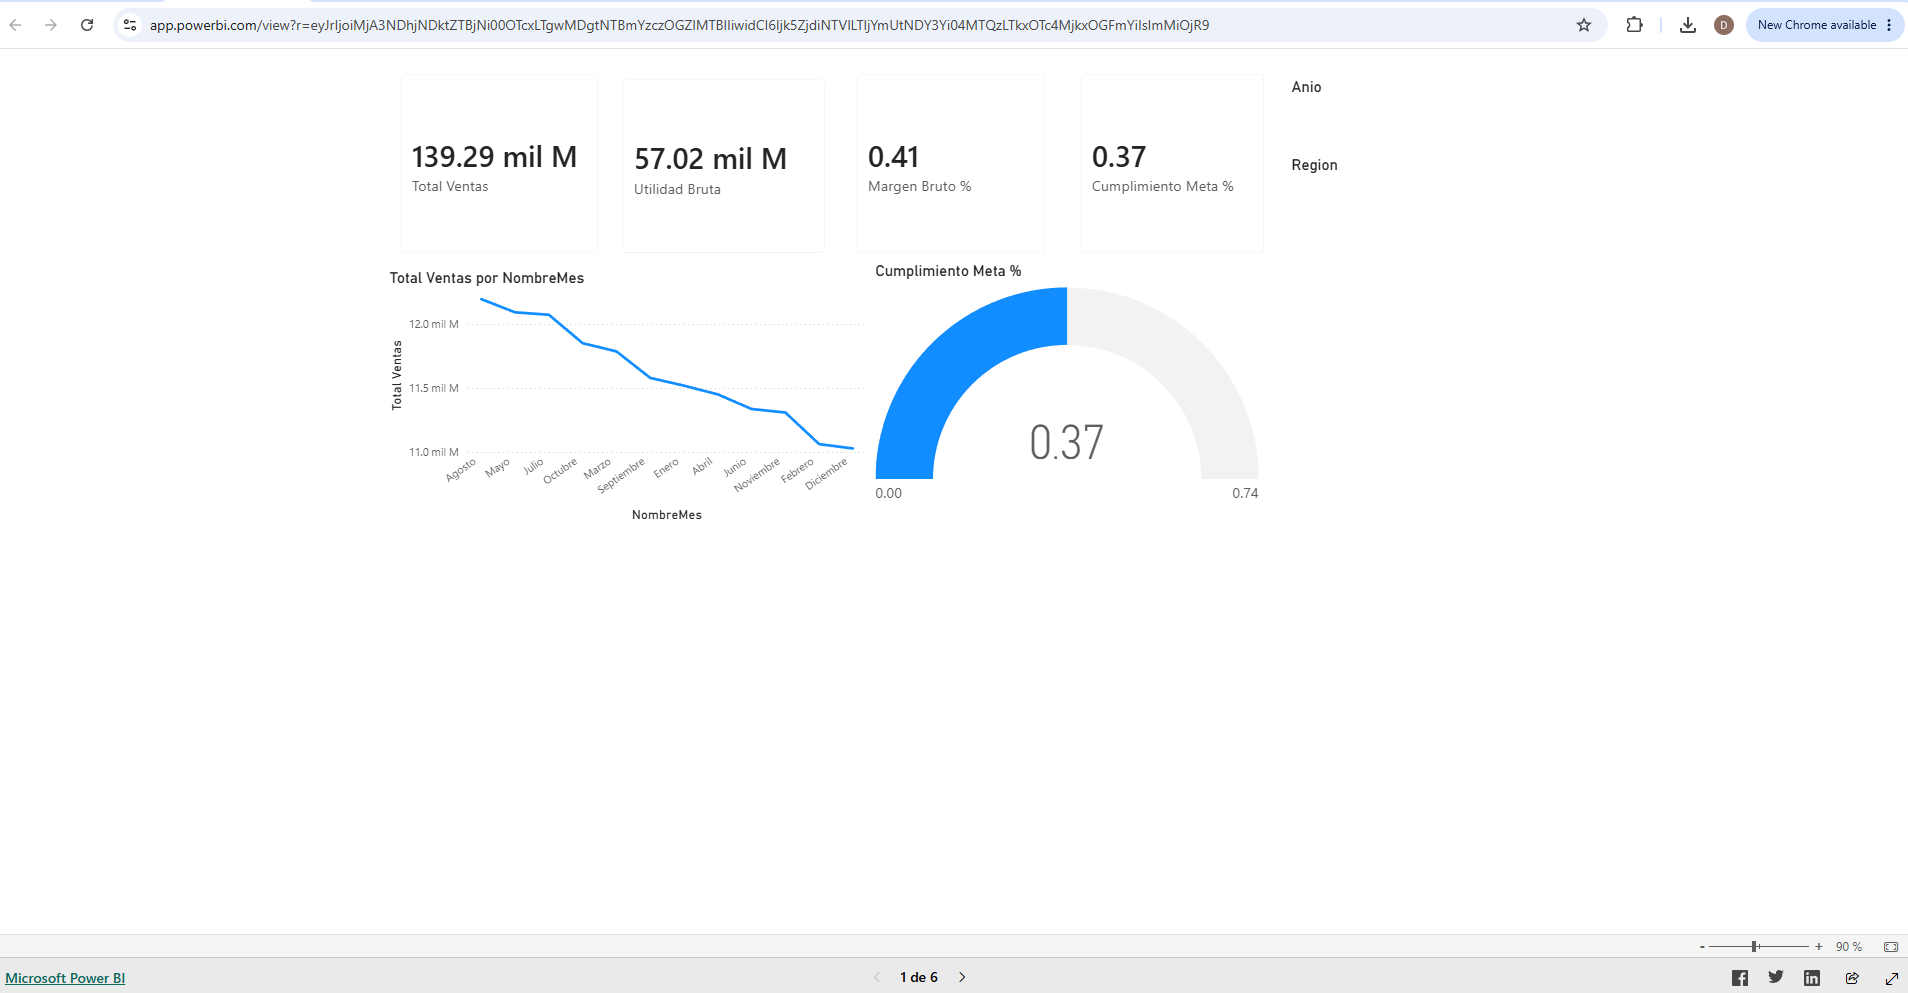

This screenshot's page, from the dashboard's own definition file:
{"tool":"powerbi","page":{"name":"Dashboard Ejecutivo","canvas":[1280,720],"ordinal":0},"visuals":[{"type":"cardVisual","fields":{"Data":["_Medidas.Total Ventas"]},"box":[9.9,0,254.6,233.8],"z":0},{"type":"cardVisual","fields":{"Data":["_Medidas.Utilidad Bruta"]},"box":[256.6,5.9,259.6,227.9],"z":1000},{"type":"cardVisual","fields":{"Data":["_Medidas.Margen Bruto %"]},"box":[517.2,0,244.7,233.8],"z":2000},{"type":"cardVisual","fields":{"Data":["_Medidas.Cumplimiento Meta %"]},"box":[765.8,0,238.8,233.8],"z":3000},{"type":"lineChart","fields":{"Category":["DimFecha.NombreMes"],"Y":["_Medidas.Total Ventas"]},"box":[9.9,233.8,539.9,286.3],"z":4000},{"type":"gauge","fields":{"Y":["_Medidas.Cumplimiento Meta %"]},"box":[549.8,225.9,435.9,281.4],"z":5000},{"type":"funnel","fields":{"Category":["DimFecha.Anio"]},"box":[1012.5,20.8,100.1,87.2],"z":6000},{"type":"funnel","fields":{"Category":["DimTienda.Region"]},"box":[1012.5,108,107,106],"z":7000}]}

Visuals, with their boxes on the page's 1280x720 design canvas (x1, y1, x2, y2). These are canvas units, not pixel positions in the 1908x993 screenshot, which may show the page scaled, cropped or inside an application window:
cardVisual - _Medidas.Total Ventas: region(10, 0, 264, 234)
cardVisual - _Medidas.Utilidad Bruta: region(257, 6, 516, 234)
cardVisual - _Medidas.Margen Bruto %: region(517, 0, 762, 234)
cardVisual - _Medidas.Cumplimiento Meta %: region(766, 0, 1005, 234)
lineChart - DimFecha.NombreMes x _Medidas.Total Ventas: region(10, 234, 550, 520)
gauge - _Medidas.Cumplimiento Meta %: region(550, 226, 986, 507)
funnel - DimFecha.Anio: region(1012, 21, 1113, 108)
funnel - DimTienda.Region: region(1012, 108, 1120, 214)
